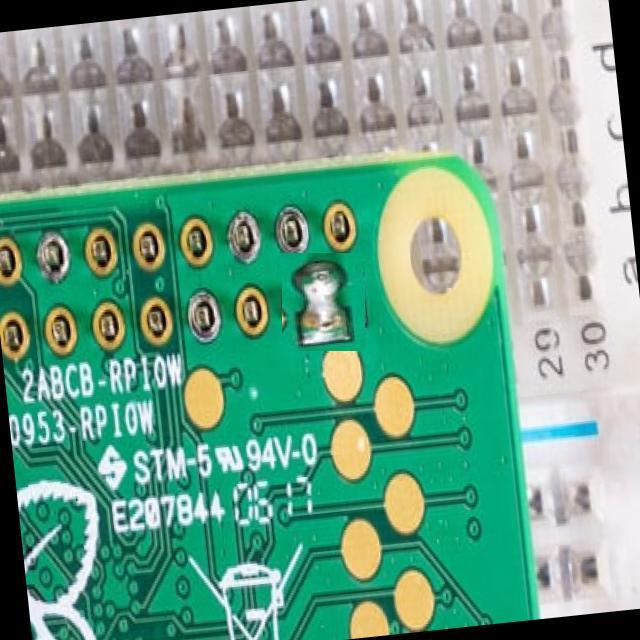damged: (277, 256, 368, 348)
